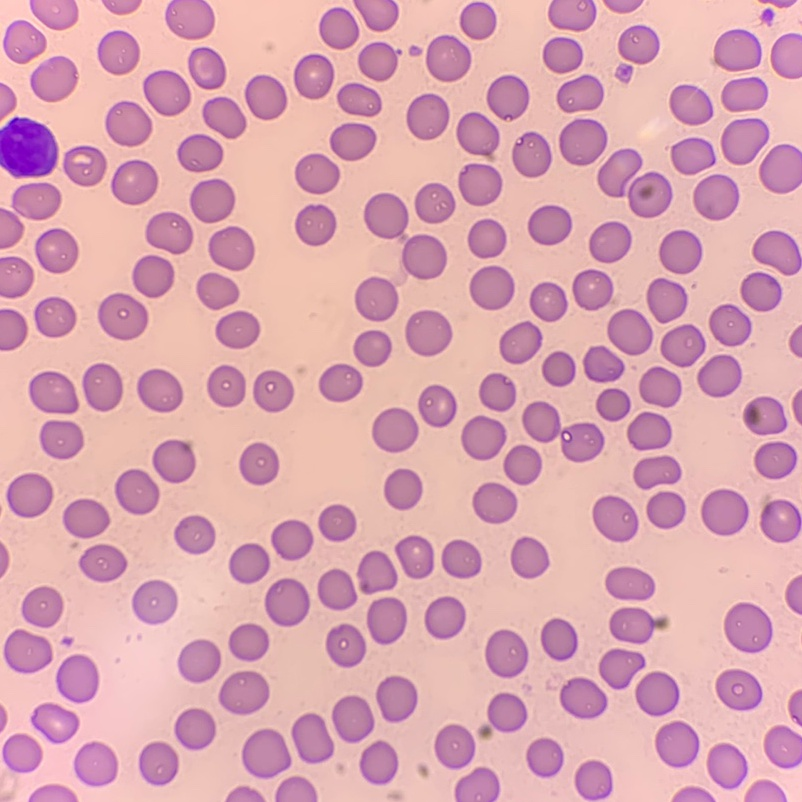RBC: (364, 193, 446, 279), (522, 401, 603, 461), (0, 117, 58, 177), (724, 603, 772, 652), (242, 729, 290, 778), (98, 293, 147, 339), (478, 693, 526, 739), (721, 118, 768, 164), (559, 119, 606, 165), (701, 489, 748, 535), (609, 607, 668, 643), (143, 70, 190, 115), (265, 578, 309, 626), (3, 630, 52, 673), (219, 671, 268, 714), (405, 310, 451, 355), (6, 473, 53, 517), (753, 231, 801, 274), (29, 371, 78, 413), (292, 713, 333, 763), (30, 56, 75, 101), (693, 174, 738, 219), (607, 309, 652, 354), (593, 496, 638, 541), (426, 35, 470, 81), (111, 160, 157, 204), (208, 226, 254, 270), (372, 408, 418, 452), (598, 149, 641, 196), (485, 630, 528, 677), (56, 654, 98, 702), (760, 144, 801, 193), (106, 101, 151, 145), (628, 172, 672, 217), (635, 671, 679, 716), (656, 721, 699, 767), (456, 112, 499, 157), (137, 369, 182, 412), (115, 469, 158, 514), (714, 29, 761, 70), (560, 677, 607, 718), (165, 0, 214, 39), (190, 179, 234, 222), (470, 266, 514, 309), (461, 416, 505, 459), (132, 580, 176, 623), (74, 742, 117, 786), (146, 212, 192, 253), (716, 669, 762, 710), (376, 676, 417, 722), (332, 696, 373, 742), (31, 703, 78, 743), (355, 277, 397, 321), (407, 94, 448, 139), (82, 364, 122, 410), (599, 649, 645, 689), (62, 499, 109, 538), (367, 597, 406, 644), (35, 229, 77, 272), (659, 230, 701, 273), (152, 440, 195, 482), (98, 30, 139, 74), (245, 75, 286, 119), (661, 325, 705, 366), (697, 355, 741, 396), (707, 743, 747, 788), (79, 544, 126, 582), (3, 20, 45, 62), (178, 640, 220, 682), (202, 97, 245, 138), (458, 164, 501, 205), (294, 53, 333, 98), (557, 74, 603, 112), (12, 183, 60, 219), (487, 75, 528, 117), (174, 708, 215, 750), (647, 279, 687, 322), (473, 483, 516, 523), (512, 132, 551, 176), (295, 154, 339, 193), (435, 725, 474, 769), (500, 322, 541, 363), (21, 586, 62, 627), (589, 222, 631, 262), (133, 255, 173, 297), (709, 305, 751, 345), (253, 370, 293, 412), (761, 500, 801, 542), (271, 520, 313, 560), (670, 85, 713, 124), (528, 205, 571, 244), (326, 624, 365, 667), (139, 742, 178, 785), (330, 123, 375, 160), (177, 134, 222, 171), (425, 597, 465, 638), (319, 7, 358, 49), (63, 146, 105, 185), (639, 367, 681, 406), (40, 420, 83, 458), (215, 311, 259, 348), (627, 412, 671, 449), (295, 205, 335, 245), (229, 543, 269, 583), (34, 297, 75, 336), (239, 443, 278, 484), (358, 551, 396, 593), (319, 364, 362, 401), (743, 397, 786, 434), (764, 725, 801, 768), (360, 741, 397, 784), (671, 138, 715, 174), (721, 77, 767, 111), (207, 365, 245, 406), (418, 385, 456, 426), (318, 569, 356, 610), (188, 47, 225, 89), (396, 536, 433, 578), (606, 567, 654, 599), (415, 183, 454, 222), (573, 270, 612, 309), (618, 25, 658, 63), (741, 272, 781, 310), (384, 469, 422, 509), (174, 515, 214, 553), (228, 623, 268, 661), (511, 537, 548, 578), (196, 273, 238, 309), (541, 618, 577, 660), (455, 767, 499, 801), (358, 42, 397, 80), (442, 540, 481, 578), (2, 734, 41, 772), (755, 442, 796, 478), (634, 456, 680, 488), (337, 83, 381, 116), (504, 445, 541, 484), (526, 738, 563, 777), (575, 761, 612, 800), (583, 346, 623, 382), (468, 219, 505, 257), (647, 491, 685, 528), (549, 0, 595, 30), (530, 283, 566, 321), (479, 373, 515, 411), (543, 37, 582, 72), (30, 0, 77, 29), (771, 33, 801, 78), (460, 2, 496, 39), (354, 330, 391, 366), (318, 505, 355, 541), (354, 0, 398, 30), (0, 257, 32, 297), (542, 351, 575, 386), (596, 388, 630, 420), (0, 309, 26, 350), (275, 776, 317, 801), (0, 209, 22, 248), (745, 780, 785, 801), (29, 785, 76, 801), (786, 576, 801, 613), (673, 787, 712, 801), (227, 786, 263, 801), (0, 84, 15, 116), (104, 0, 139, 13), (605, 0, 640, 12), (788, 691, 801, 723), (789, 327, 801, 356), (616, 64, 631, 81), (793, 392, 801, 421), (0, 545, 8, 574), (761, 9, 773, 22), (772, 0, 793, 7), (0, 708, 6, 727), (410, 47, 419, 55), (0, 794, 7, 801)
